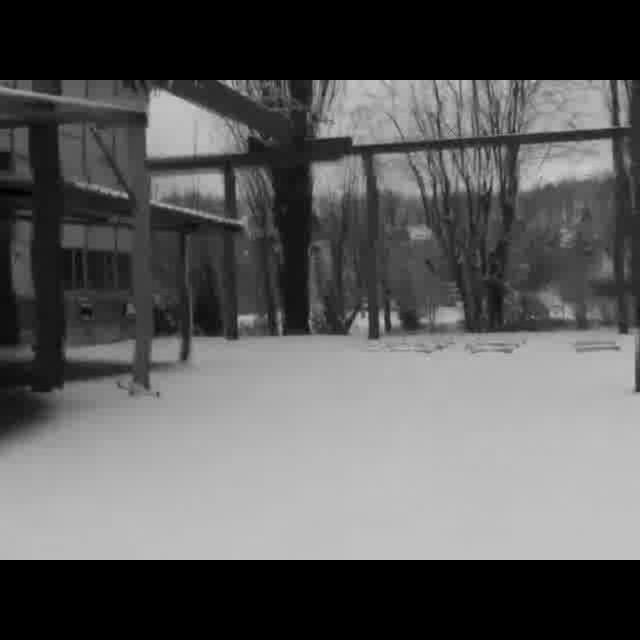Drons: (101, 374, 170, 408)
